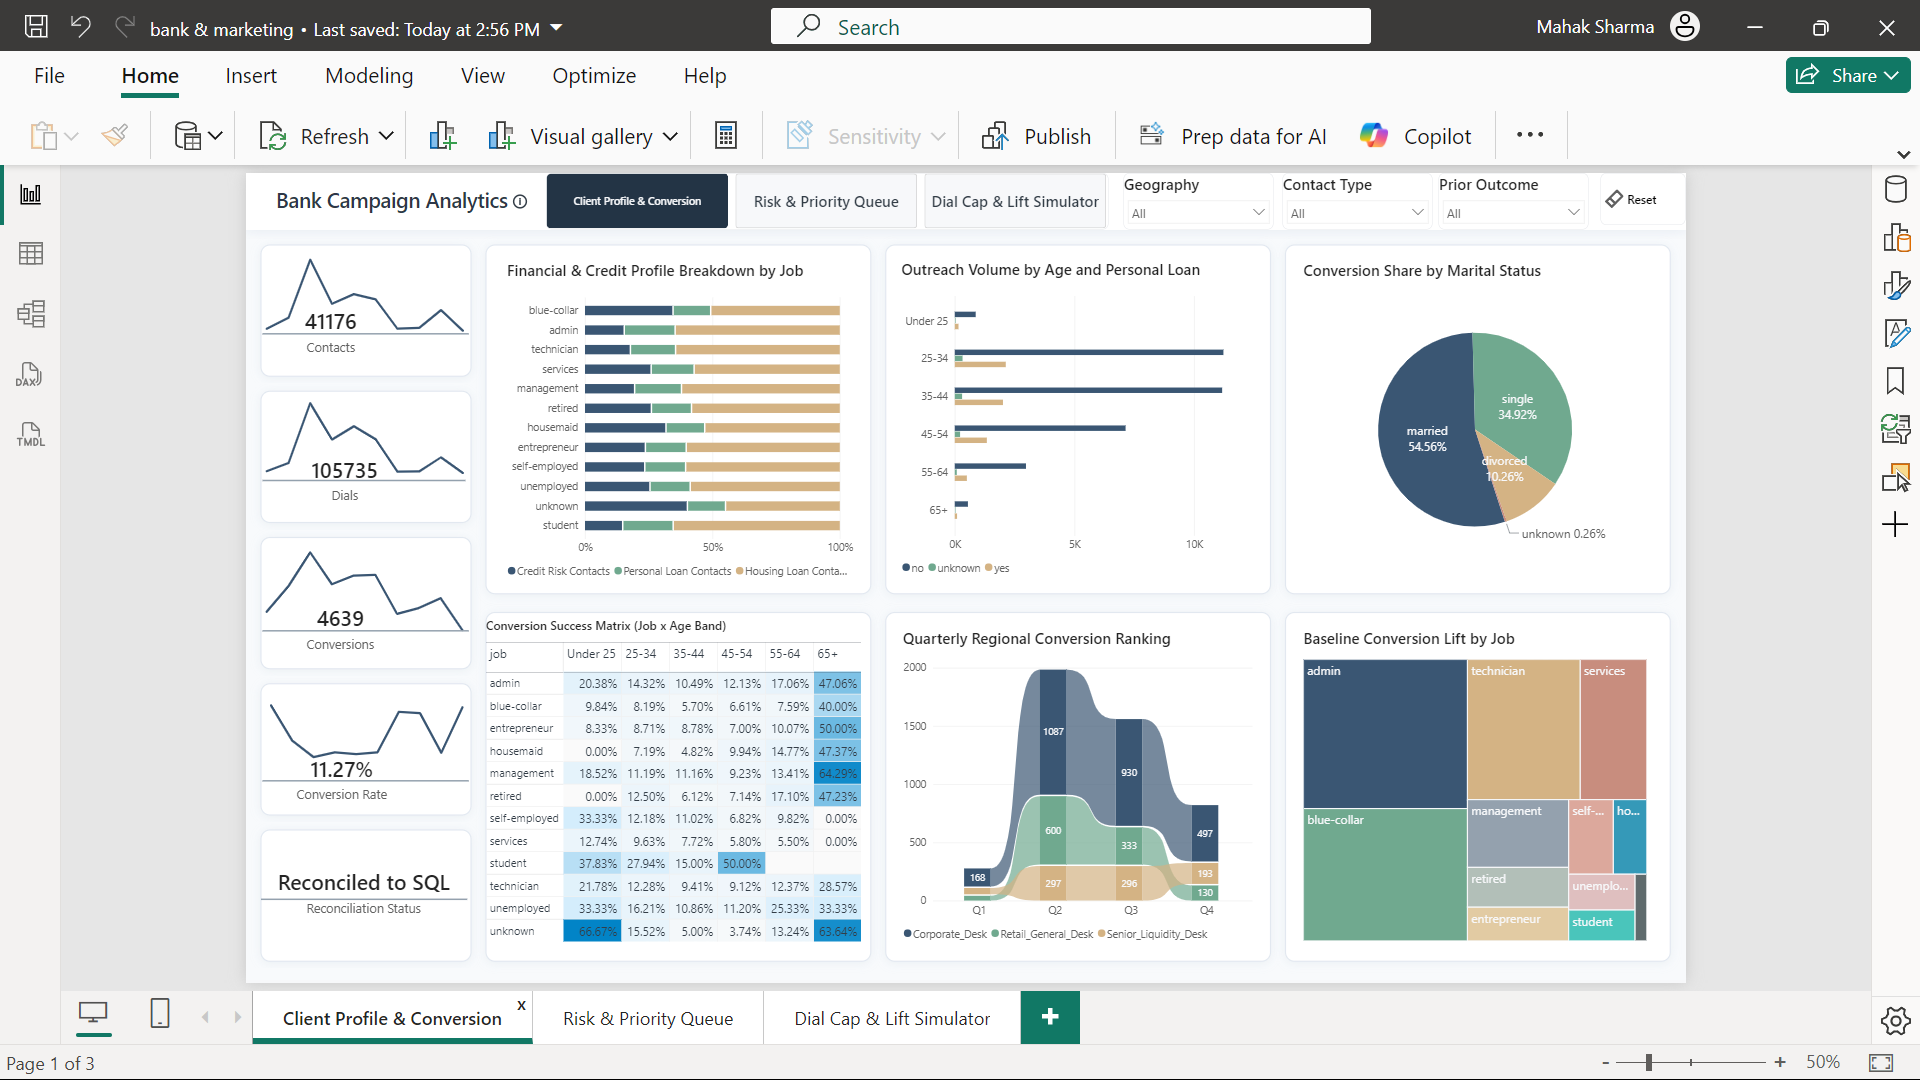

Layout of this report page (visuals, bound fields, positions):
{"tool":"powerbi","page":{"name":"Client Profile & Conversion","canvas":[1920,1080],"ordinal":0},"visuals":[{"type":"actionButton","box":[340,10,50,56],"z":0},{"type":"card","fields":{"Values":["_Measures.Dials"]},"box":[22.9,360.4,219.4,97.2],"z":1000},{"type":"card","fields":{"Values":["_Measures.Contacts"]},"box":[16.7,154.2,194.2,112.4],"z":2000},{"type":"card","fields":{"Values":["_Measures.Conversions"]},"box":[16.7,529.2,219.4,152.8],"z":3000},{"type":"card","fields":{"Values":["_Measures.Conversion Rate"]},"box":[18.8,753,219.4,105.6],"z":4000},{"type":"card","fields":{"Values":["_Measures.Reconciliation Status"]},"box":[0,904.2,313.9,108.3],"z":5000},{"type":"pivotTable","title":"Conversion Success Matrix (Job x Age Band)","fields":{"Columns":["dim_client.age_band"],"Rows":["dim_client.job"],"Values":["_Measures.Conversion Rate"]},"box":[316.7,587.5,508.3,460.4],"z":6000},{"type":"lineChart","fields":{"Category":["dim_calendar.month_name"],"Y":["_Measures.Contacts"]},"box":[0,83.3,316.7,144.4],"z":7000},{"type":"lineChart","fields":{"Category":["dim_calendar.month_name"],"Y":["_Measures.Dials"]},"box":[0,266.7,316.7,152.1],"z":8000},{"type":"lineChart","fields":{"Category":["dim_calendar.month_name"],"Y":["_Measures.Conversions"]},"box":[0,468,316,170],"z":9000},{"type":"lineChart","fields":{"Category":["dim_calendar.month_name"],"Y":["_Measures.Conversion Rate"]},"box":[6,672,310,134],"z":10000},{"type":"hundredPercentStackedBarChart","title":"Financial & Credit Profile Breakdown by Job","fields":{"Category":["dim_client.job"],"Y":["_Measures.Credit Risk Contacts","_Measures.Personal Loan Contacts","_Measures.Housing Loan Contacts"]},"box":[331.2,102.1,493.8,458.3],"z":11000},{"type":"pieChart","title":"Conversion Share by Marital Status","fields":{"Category":["dim_client.marital_status"],"Y":["_Measures.Conversions"]},"box":[1393.8,102.1,489.6,439.6],"z":12000},{"type":"clusteredBarChart","title":"Outreach Volume by Age and Personal Loan","fields":{"Category":["dim_client.age_band"],"Series":["dim_client.has_personal_ln"],"Y":["_Measures.Contacts"]},"box":[858.3,100,497.9,456.2],"z":13000},{"type":"treemap","title":"Baseline Conversion Lift by Job","fields":{"Group":["dim_client.job"],"Values":["_Measures.Contacts"]},"box":[1393.8,591.7,489.6,447.9],"z":14000},{"type":"ribbonChart","title":"Quarterly Regional Conversion Ranking","fields":{"Category":["dim_calendar.quarter_label"],"Series":["dim_client.assigned_region"],"Y":["_Measures.Conversions"]},"box":[860.4,591.7,497.9,452.1],"z":15000},{"type":"pageNavigator","box":[400,0,750,75],"z":16000},{"type":"slicer","title":"Geography","fields":{"Values":["dim_client.assigned_region"]},"box":[1170,0,200,75],"z":17000},{"type":"slicer","title":"Contact Type","fields":{"Values":["dim_campaign.contact_direction"]},"box":[1381.2,0,200,75],"z":18000},{"type":"slicer","title":"Prior Outcome","fields":{"Values":["dim_campaign.previous_outcome"]},"box":[1590,0,200,75],"z":19000},{"type":"actionButton","box":[1805.7,0,113.6,69.5],"z":20000},{"type":"shape","box":[22.9,204.2,275,20.8],"z":21000},{"type":"shape","box":[22.9,400,270.8,20],"z":22000},{"type":"shape","box":[22.9,600,275,20.8],"z":23000},{"type":"shape","box":[22,800,275,20.8],"z":24000},{"type":"shape","box":[20.8,958.3,275,20.8],"z":25000}]}

Visuals, with their boxes on the page's 1920x1080 design canvas (x1, y1, x2, y2). These are canvas units, not pixel positions in the 1920x1080 screenshot, which may show the page scaled, cropped or inside an application window:
actionButton: (340, 10, 390, 66)
card - _Measures.Dials: (23, 360, 242, 458)
card - _Measures.Contacts: (17, 154, 211, 267)
card - _Measures.Conversions: (17, 529, 236, 682)
card - _Measures.Conversion Rate: (19, 753, 238, 859)
card - _Measures.Reconciliation Status: (0, 904, 314, 1012)
"Conversion Success Matrix (Job x Age Band)" pivotTable: (317, 588, 825, 1048)
lineChart - dim_calendar.month_name x _Measures.Contacts: (0, 83, 317, 228)
lineChart - dim_calendar.month_name x _Measures.Dials: (0, 267, 317, 419)
lineChart - dim_calendar.month_name x _Measures.Conversions: (0, 468, 316, 638)
lineChart - dim_calendar.month_name x _Measures.Conversion Rate: (6, 672, 316, 806)
"Financial & Credit Profile Breakdown by Job" hundredPercentStackedBarChart: (331, 102, 825, 560)
"Conversion Share by Marital Status" pieChart: (1394, 102, 1883, 542)
"Outreach Volume by Age and Personal Loan" clusteredBarChart: (858, 100, 1356, 556)
"Baseline Conversion Lift by Job" treemap: (1394, 592, 1883, 1040)
"Quarterly Regional Conversion Ranking" ribbonChart: (860, 592, 1358, 1044)
pageNavigator: (400, 0, 1150, 75)
"Geography" slicer: (1170, 0, 1370, 75)
"Contact Type" slicer: (1381, 0, 1581, 75)
"Prior Outcome" slicer: (1590, 0, 1790, 75)
actionButton: (1806, 0, 1919, 70)
shape: (23, 204, 298, 225)
shape: (23, 400, 294, 420)
shape: (23, 600, 298, 621)
shape: (22, 800, 297, 821)
shape: (21, 958, 296, 979)
